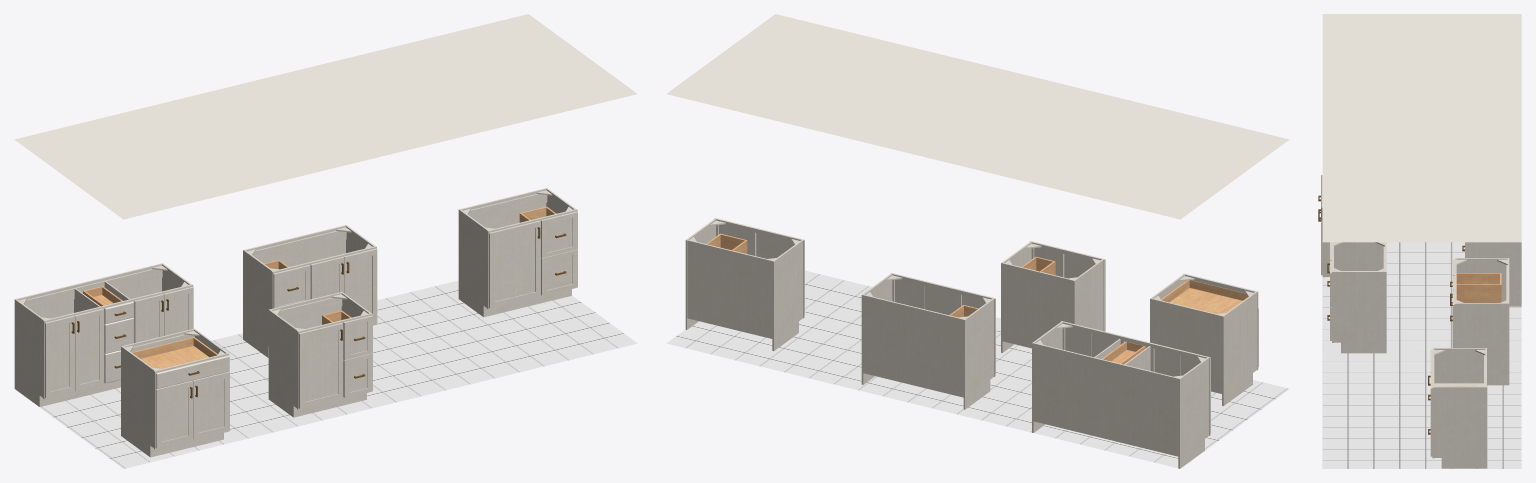
File: Adjustment_Cab.dae
3 renders of one model, left to right at view 1: azimuth 30°, elevation 25°; view 2: azimuth 150°, elevation 25°; view 3: azimuth 270°, elevation 25°, orthographic. The views are drawn at different scales.
Parts seen in each view (by area): view 1: Ceiling, Floor, VCDS60 (×8), VSD36L (×7), B30 (×5), VSD42R (×6), VSD30L (×4); view 2: Ceiling, Floor, VCDS60 (×4), VSD42R (×3), VSD36L (×3), B30 (×3), VSD30L (×2); view 3: Ceiling, Floor, VSD36L (×2), VSD30L (×2), VSD42R (×3), VCDS60.
Part boxes in pixels (bbox=[...]): Ceiling: bbox=[14, 14, 637, 219]; Floor: bbox=[14, 280, 637, 468]; VCDS60 (×8): bbox=[14, 263, 188, 406]; VSD36L (×7): bbox=[458, 188, 572, 317]; B30 (×5): bbox=[121, 346, 229, 457]; VSD42R (×6): bbox=[243, 225, 371, 357]; VSD30L (×4): bbox=[268, 292, 342, 417]; Ceiling: bbox=[666, 14, 1289, 219]; Floor: bbox=[666, 270, 1289, 468]; VCDS60 (×4): bbox=[1032, 322, 1208, 468]; VSD42R (×3): bbox=[861, 274, 993, 409]; VSD36L (×3): bbox=[685, 219, 802, 350]; B30 (×3): bbox=[1151, 288, 1256, 406]; VSD30L (×2): bbox=[1002, 259, 1103, 348]; Ceiling: bbox=[1322, 14, 1521, 242]; Floor: bbox=[1322, 242, 1521, 468]; VSD36L (×2): bbox=[1434, 348, 1487, 468]; VSD30L (×2): bbox=[1334, 242, 1386, 353]; VSD42R (×3): bbox=[1456, 258, 1509, 385]; VCDS60: bbox=[1469, 242, 1521, 306].
Bounding box in the file's own units: 207 × 78.06 × 96.
7 materials, 5 textured.
